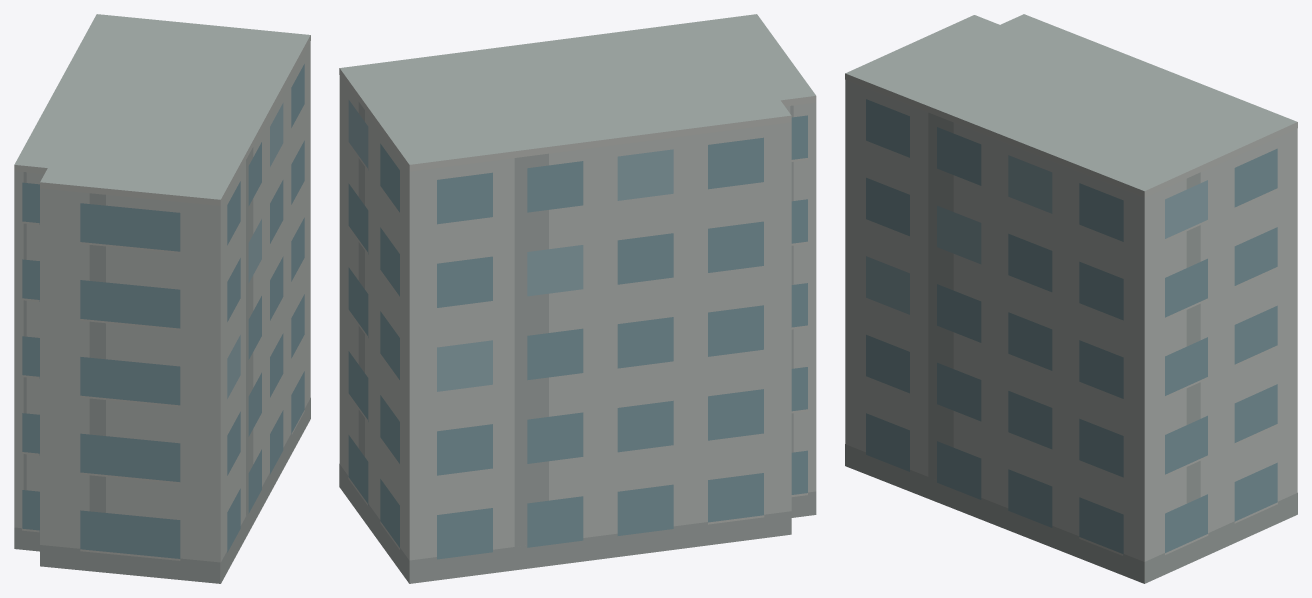
The model's file is residential-e35b916e-8224-4247-98b1-48f039e893c1.glb.
The picture shows the model from 3 angles, left to right: view 1: azimuth 30°, elevation 25°; view 2: azimuth 150°, elevation 25°; view 3: azimuth 270°, elevation 25°; orthographic projection. The views are drawn at different scales.
Parts seen in each view (by area): view 1: residential-e35b916e-8224-4247-98b1-48f039e893c1.tmp; view 2: residential-e35b916e-8224-4247-98b1-48f039e893c1.tmp; view 3: residential-e35b916e-8224-4247-98b1-48f039e893c1.tmp.
Boxes of the visible parts, box(x1,y1,x2,y2) form: residential-e35b916e-8224-4247-98b1-48f039e893c1.tmp: box(14, 14, 310, 583); residential-e35b916e-8224-4247-98b1-48f039e893c1.tmp: box(339, 14, 816, 583); residential-e35b916e-8224-4247-98b1-48f039e893c1.tmp: box(845, 14, 1297, 583).
Bounding box in the file's own units: 14.58 × 15.05 × 15.73.
